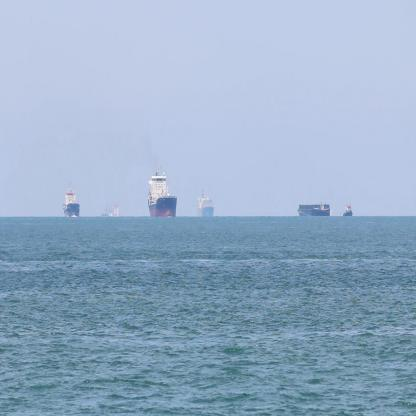Container Ship: (148, 160, 180, 219), (63, 178, 82, 220), (297, 196, 334, 216), (197, 184, 217, 219), (342, 201, 356, 218)
